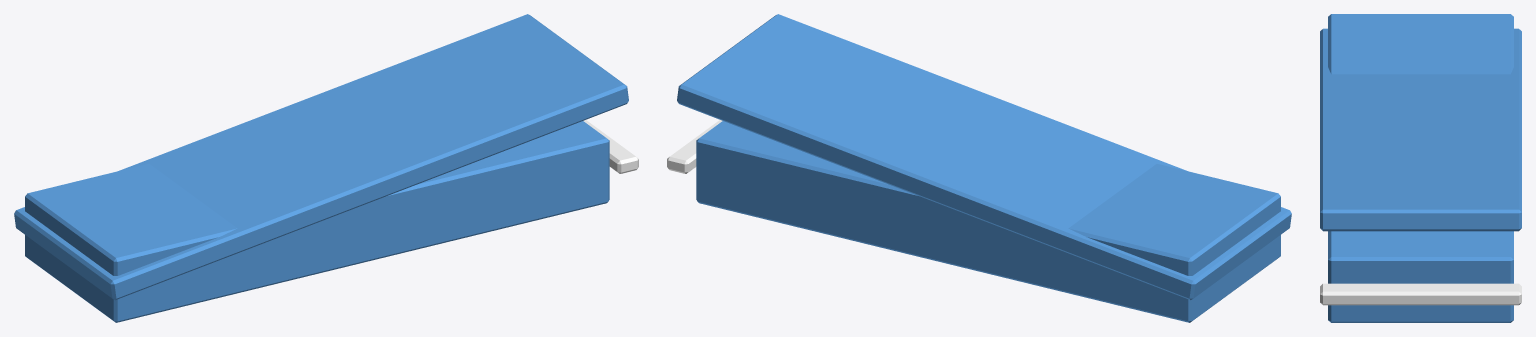
Rendered from ramp_gentle.glb.
3 renders of one model, left to right at view 1: azimuth 30°, elevation 25°; view 2: azimuth 150°, elevation 25°; view 3: azimuth 270°, elevation 25°, orthographic.
Visible parts, largest first — view 1: ramp_gentle; view 2: ramp_gentle; view 3: ramp_gentle.
Part boxes in pixels (bbox=[...]): ramp_gentle: bbox=[14, 14, 638, 322]; ramp_gentle: bbox=[667, 14, 1291, 322]; ramp_gentle: bbox=[1320, 14, 1521, 322].
Bounding box in the file's own units: 1.23 × 0.2625 × 0.4.
